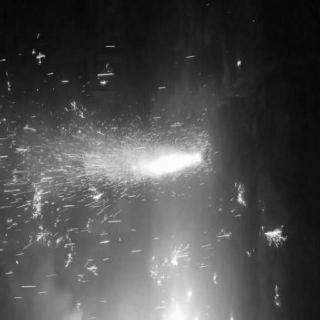Fire: (98, 144, 204, 184)
